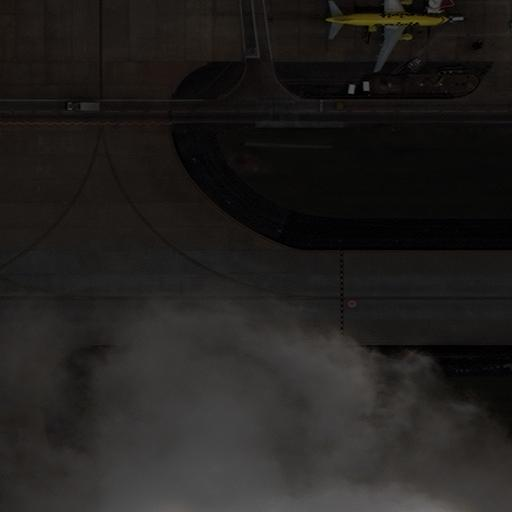Medium Civil Transport: (321, 0, 451, 71)
